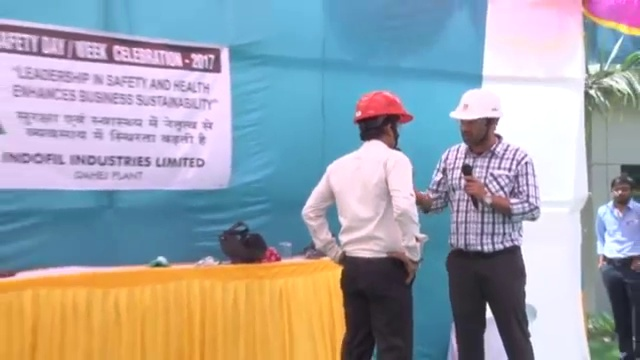helmet: (352, 90, 413, 126), (451, 86, 504, 123)
helmet_off: (609, 172, 633, 206)
helmet_on: (350, 90, 413, 153), (447, 86, 505, 154)
person: (297, 89, 425, 360), (421, 87, 543, 360), (592, 170, 639, 360)
